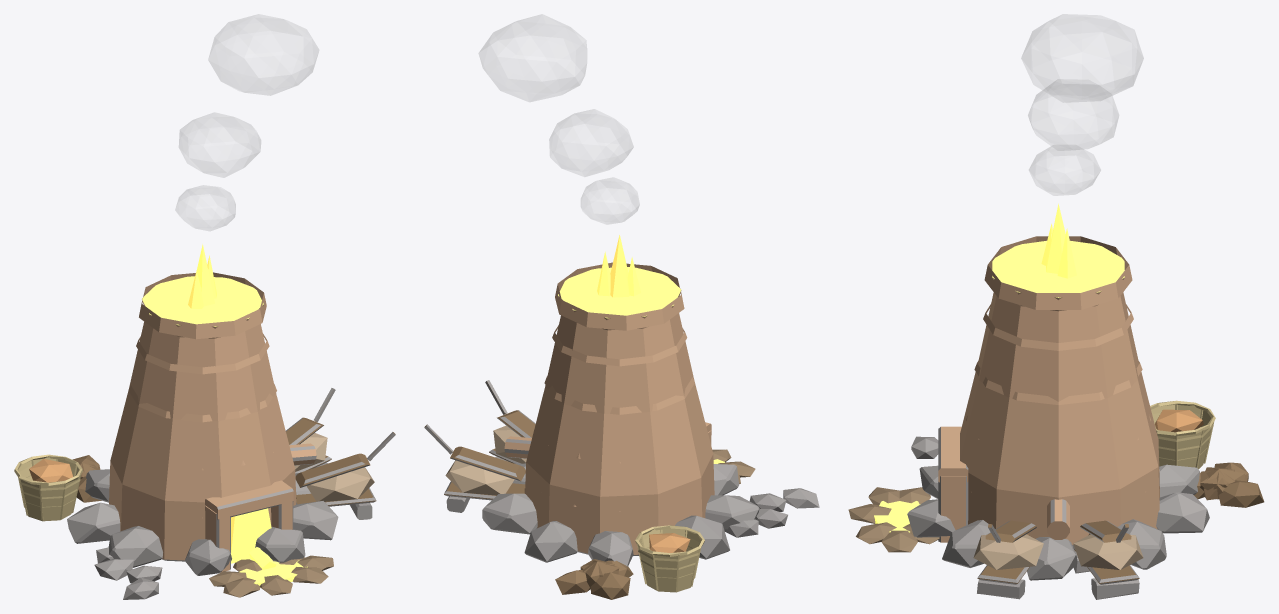
The model's file is w3d_smelter_working.glb.
3 views of the same model, side by side, from view 1: azimuth 30°, elevation 25°; view 2: azimuth 150°, elevation 25°; view 3: azimuth 270°, elevation 25° (orthographic). The views are drawn at different scales.
Parts seen in each view (by area): view 1: w3d_smelter_working; view 2: w3d_smelter_working; view 3: w3d_smelter_working.
Part boxes in pixels (<box>): w3d_smelter_working: <box>14,14,395,599</box>; w3d_smelter_working: <box>424,14,819,599</box>; w3d_smelter_working: <box>848,14,1264,599</box>.
Bounding box in the file's own units: 1.83 × 2.78 × 1.94.
